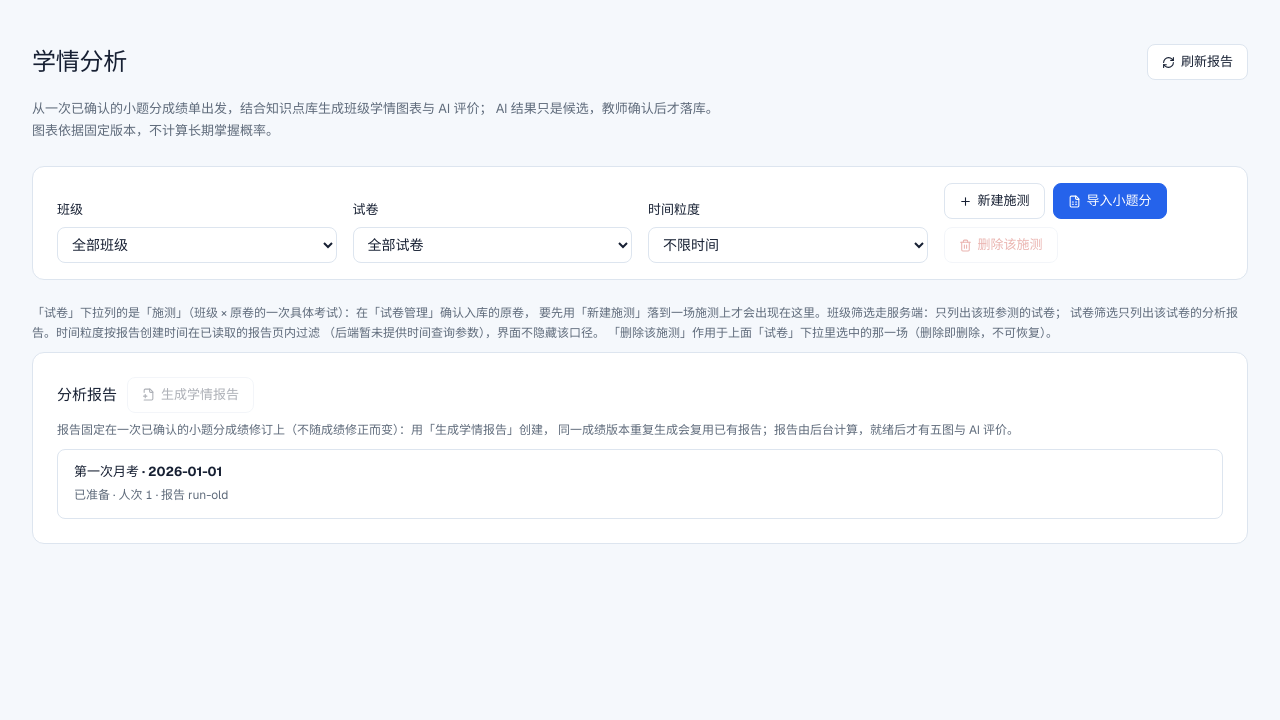
学情分析工作区 › 筛选：班级经服务端收窄试卷、试卷驱动报告列表、时间粒度显式过滤并说明口径
Select "七一班" in the dropdown named "班级筛选" at (197, 245), box x1=57 y1=227 x2=336 y2=263
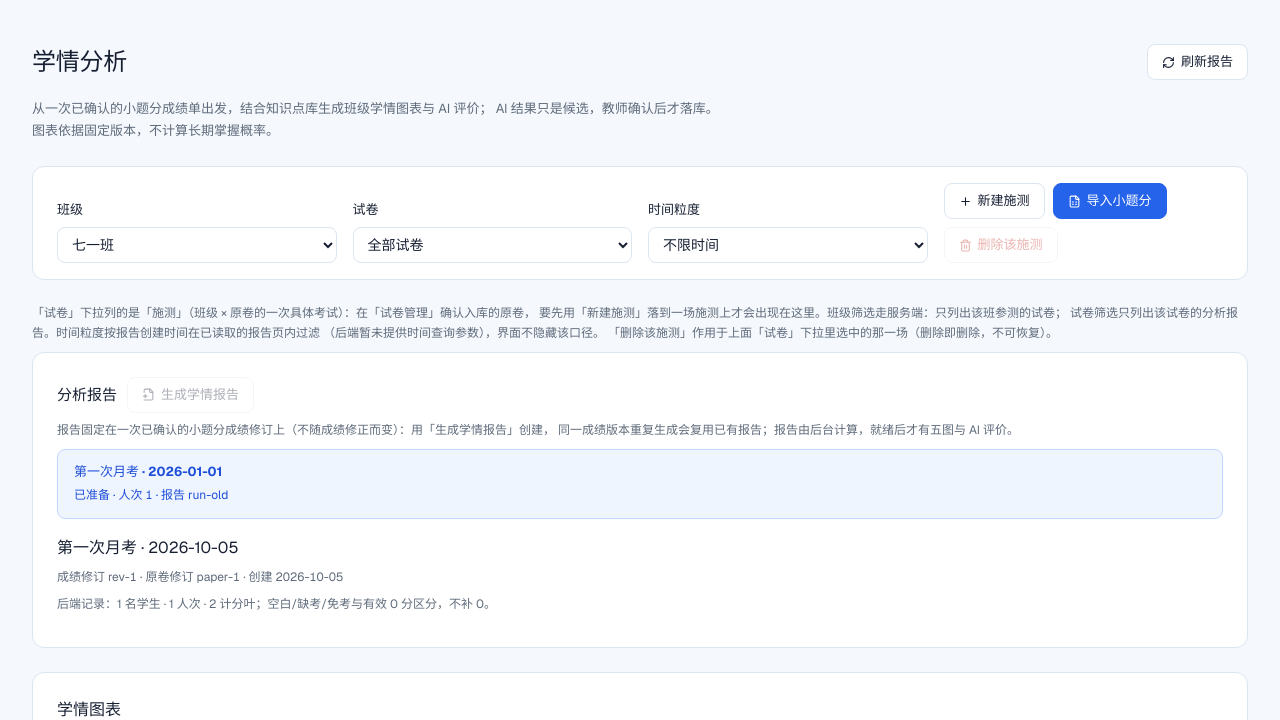
# 时间粒度：远期报告被过滤，并给出可解释的空态与口径说明
Select "近 7 天" in the dropdown named "时间粒度筛选" at (788, 245), box x1=648 y1=227 x2=928 y2=263
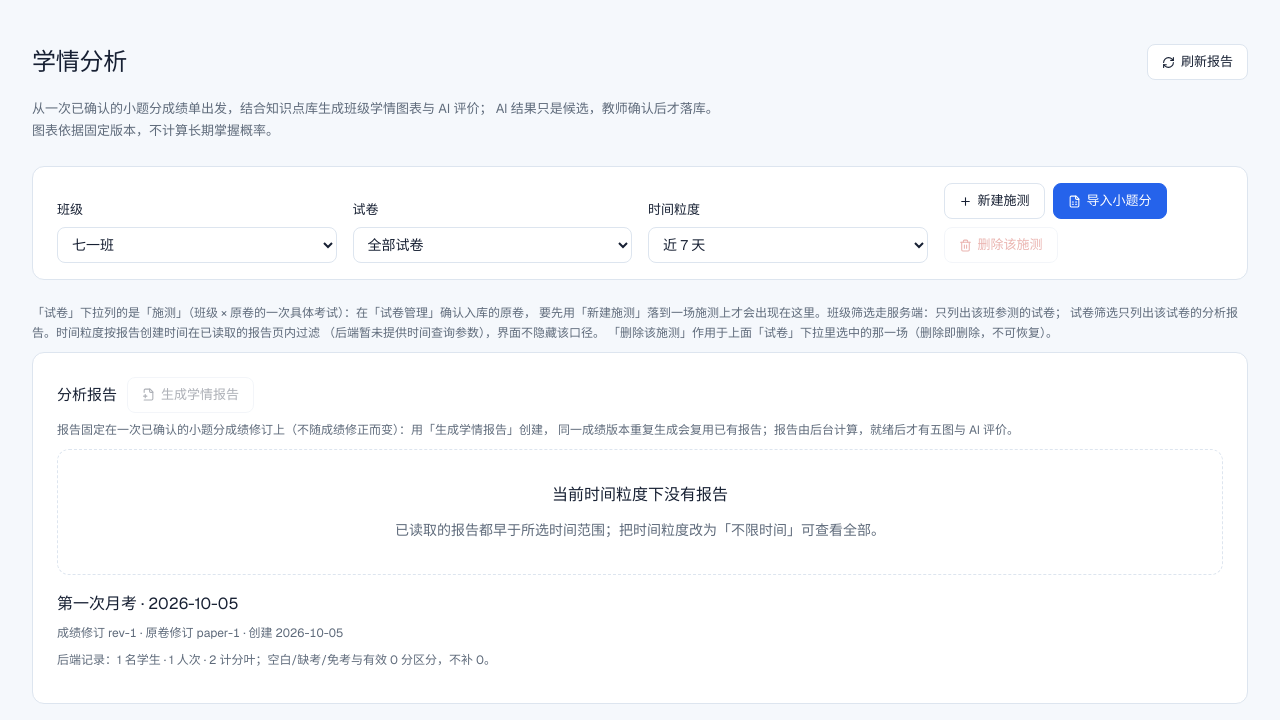
Expected: the text "时间粒度按报告创建时间在已读取的报告页内过滤" is shown, x1=32 y1=305 x2=1238 y2=341
Now the element with test id "la-runs-time-empty" shows "当前时间粒度下没有报告", box x1=552 y1=484 x2=728 y2=505
Select "不限时间" in the dropdown named "时间粒度筛选" at (788, 245), box x1=648 y1=227 x2=928 y2=263
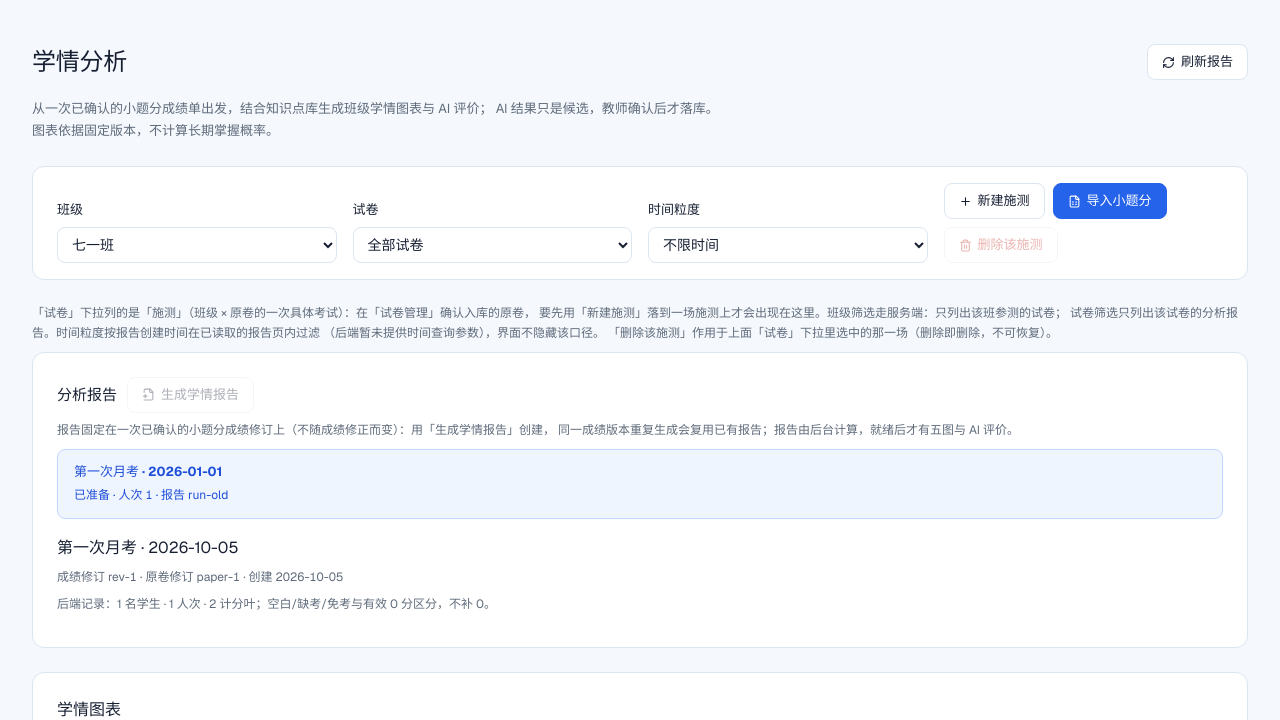
Now the button with test id "la-run-run-old" is shown, box x1=57 y1=449 x2=1223 y2=519
